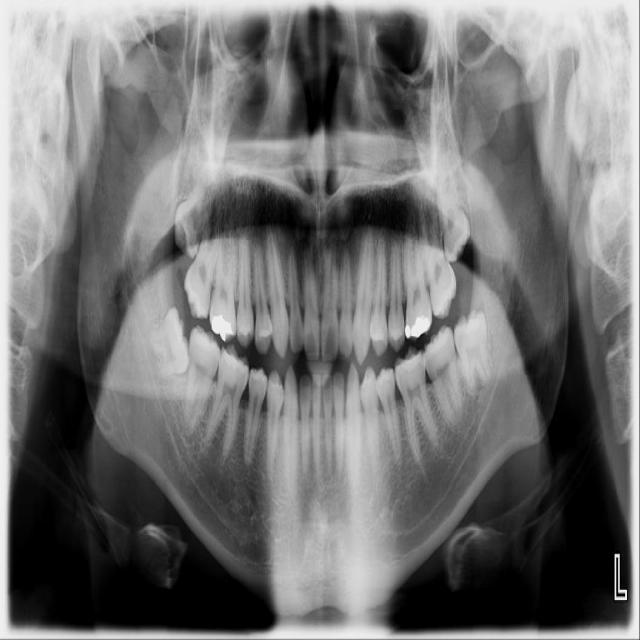Filling: (212, 317, 233, 342), (410, 317, 431, 338), (405, 325, 411, 339)
impacted tooth: (434, 143, 470, 261), (144, 307, 189, 381), (453, 311, 493, 393), (176, 168, 212, 258)
